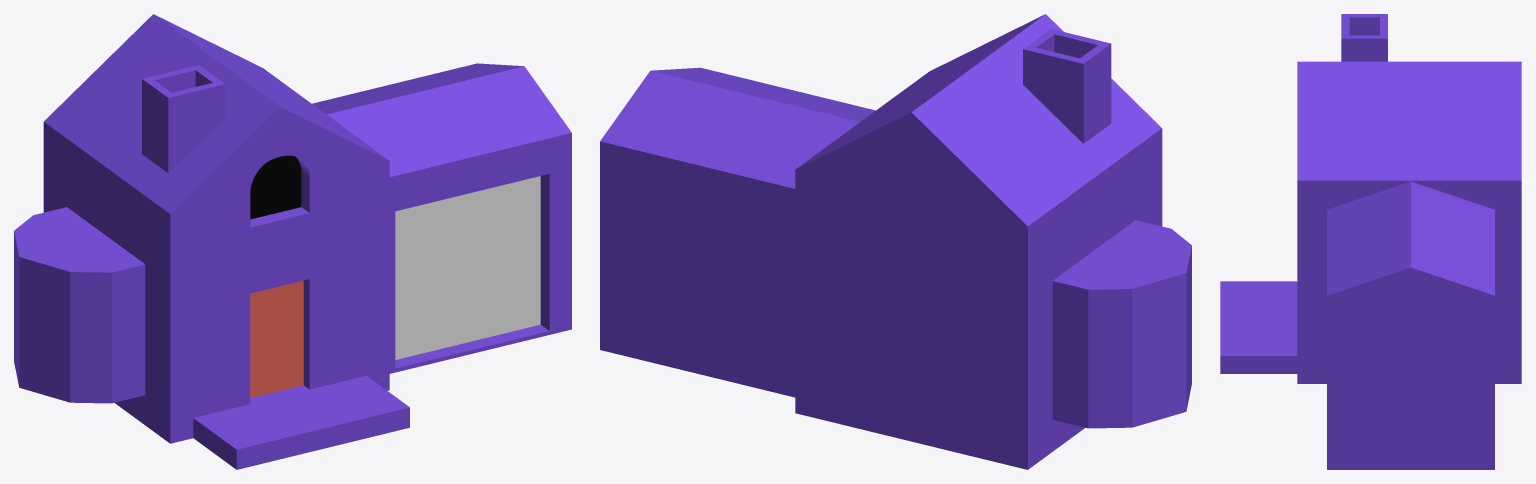
File: home.glb
3 renders of one model, left to right at view 1: azimuth 30°, elevation 25°; view 2: azimuth 150°, elevation 25°; view 3: azimuth 270°, elevation 25°, orthographic. The views are drawn at different scales.
Parts seen in each view (by area): view 1: Cube; view 2: Cube; view 3: Cube.
Part boxes in pixels (x1,y1,x2,y2): Cube: (14,14,571,469); Cube: (600,14,1191,469); Cube: (1220,14,1521,469).
Size of the model in its own units: 4.61 by 2.8 by 2.69.
